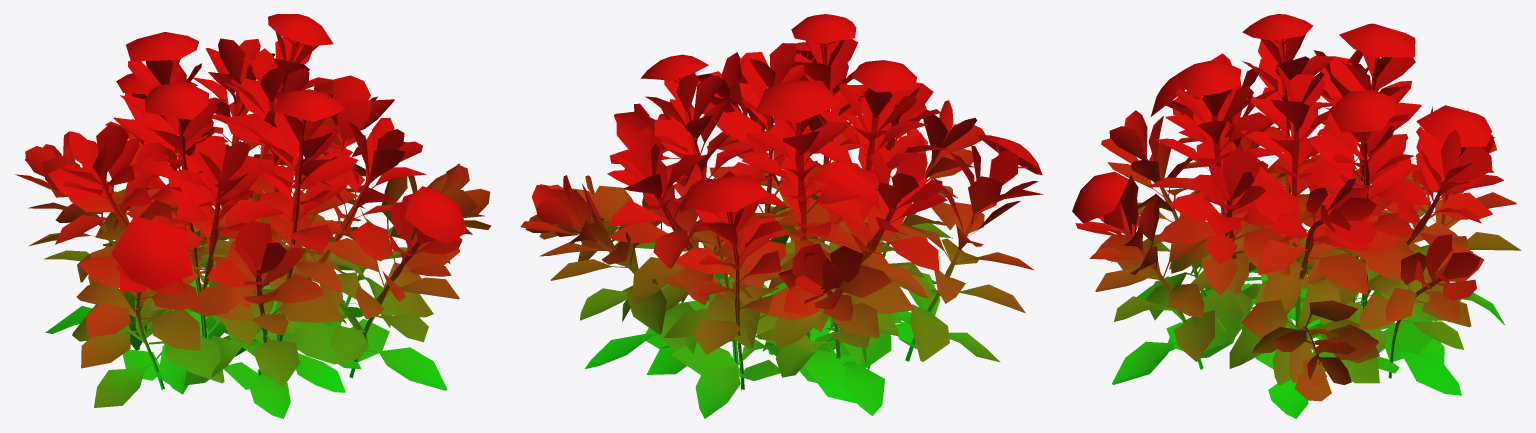
File: plante_01_lod.fbx
The picture shows the model from 3 angles, left to right: view 1: azimuth 30°, elevation 25°; view 2: azimuth 150°, elevation 25°; view 3: azimuth 270°, elevation 25°; orthographic projection. The views are drawn at different scales.
Visible parts, largest first — view 1: _jjj1_Var5_LOD4; view 2: _jjj1_Var5_LOD4; view 3: _jjj1_Var5_LOD4.
Boxes of the visible parts, x1,y1,x2,y2 form: _jjj1_Var5_LOD4: (15,14,490,418); _jjj1_Var5_LOD4: (520,14,1043,418); _jjj1_Var5_LOD4: (1072,14,1521,418).
Size of the model in its own units: 131 by 84.16 by 117.
